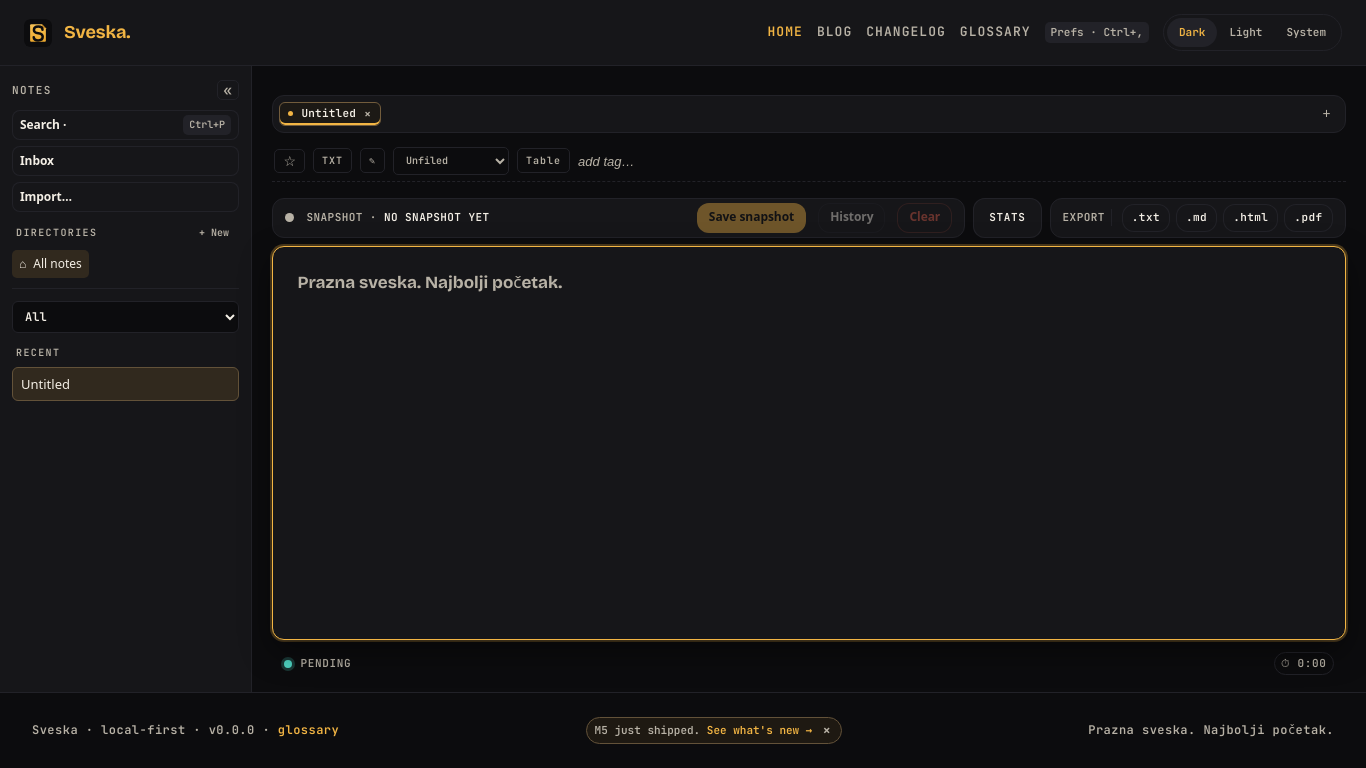
M1.T1.4 — Stats modal UI integration › Stats button opens the modal with live counts
Type "hello world hello" into the text box with test id "editor-textarea" at (809, 443), box [272,246,1346,640]
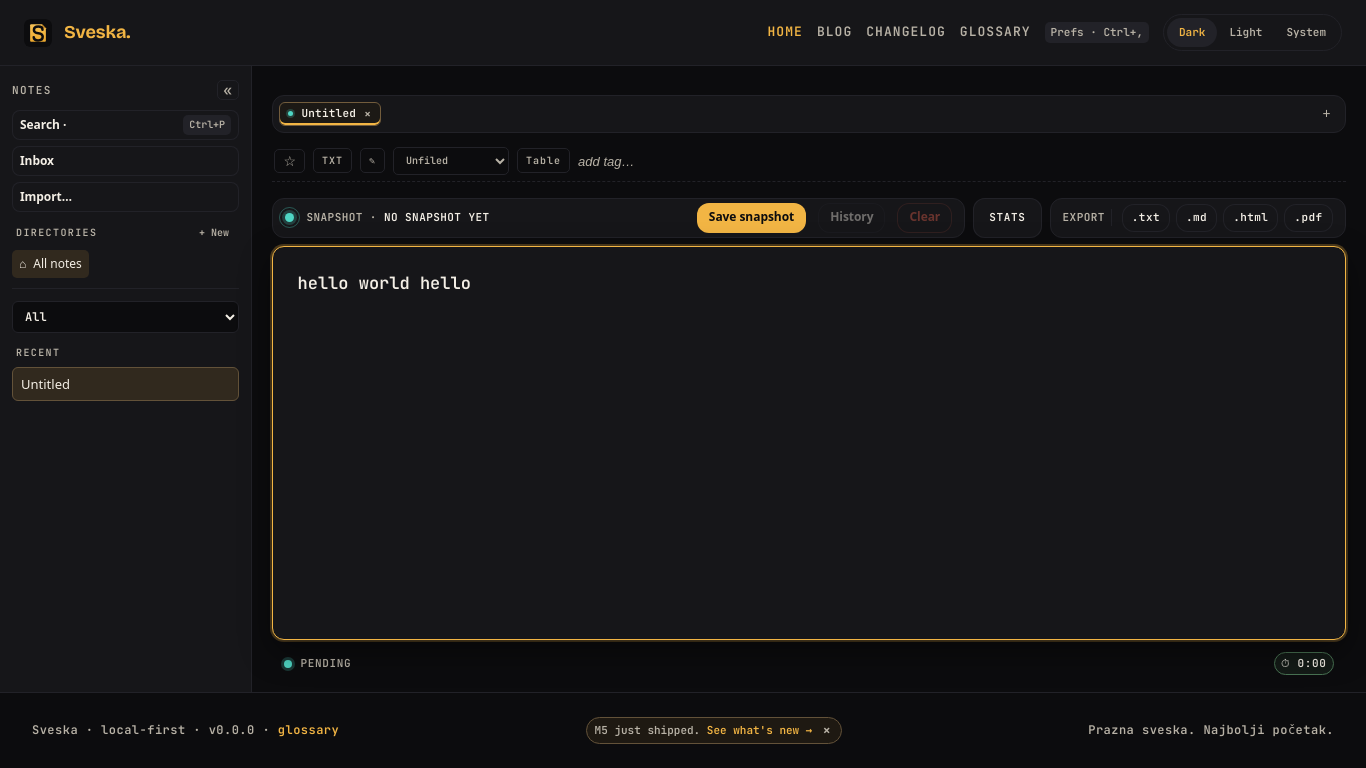
Click the button with test id "stats-open" at (1007, 218), box [973,198,1042,238]
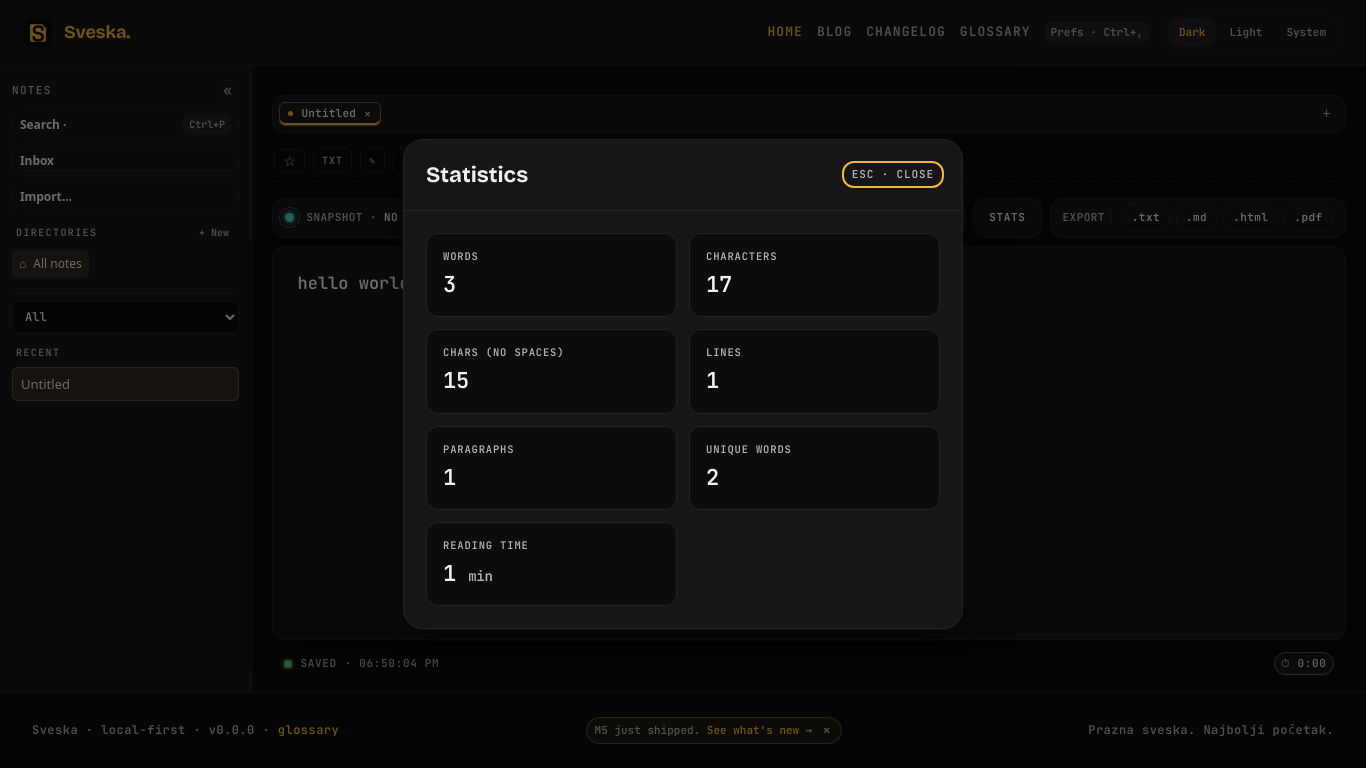
Expected: the dialog is shown, [403,139,963,629]
Expected: the element with test id "stats-words" reads "Words 3", [426,233,677,317]
Expected: the element with test id "stats-unique" reads "Unique words 2", [689,426,940,510]
